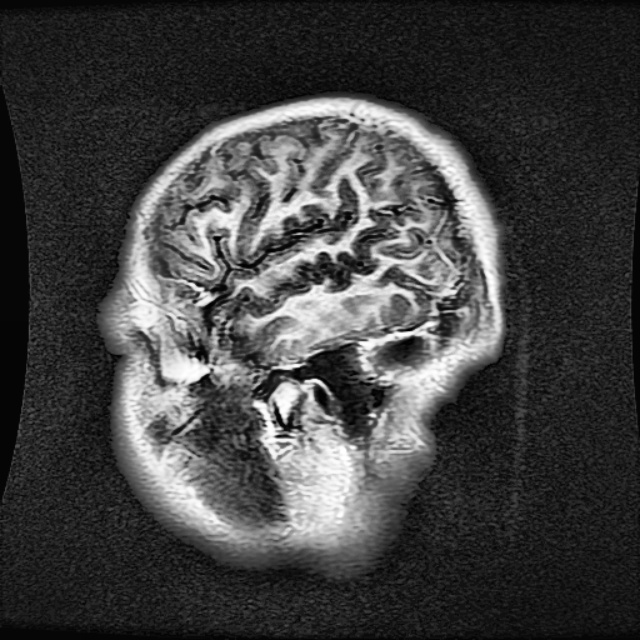Meningioma: (374, 338, 422, 369)
